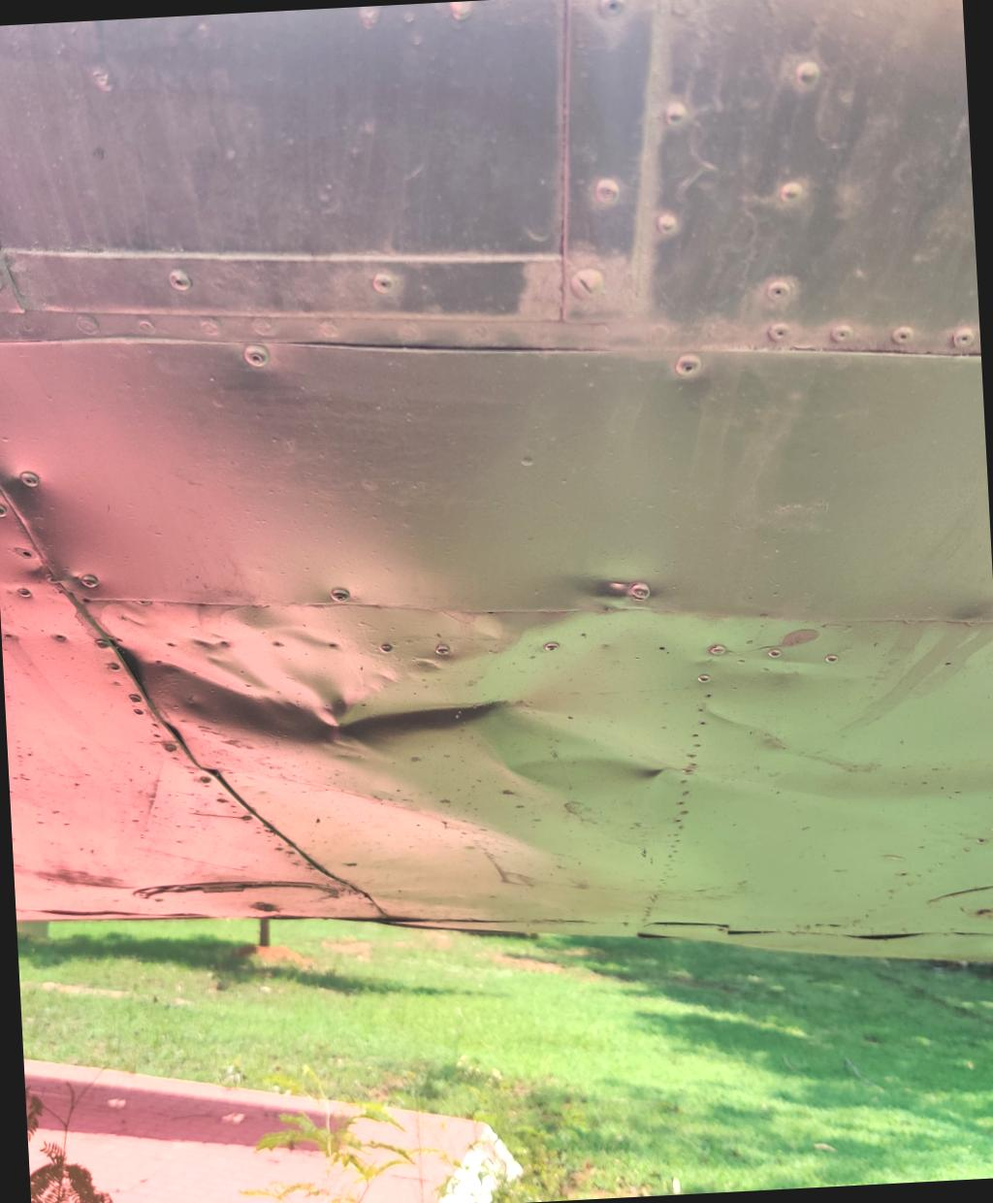dent: (87, 553, 571, 803)
